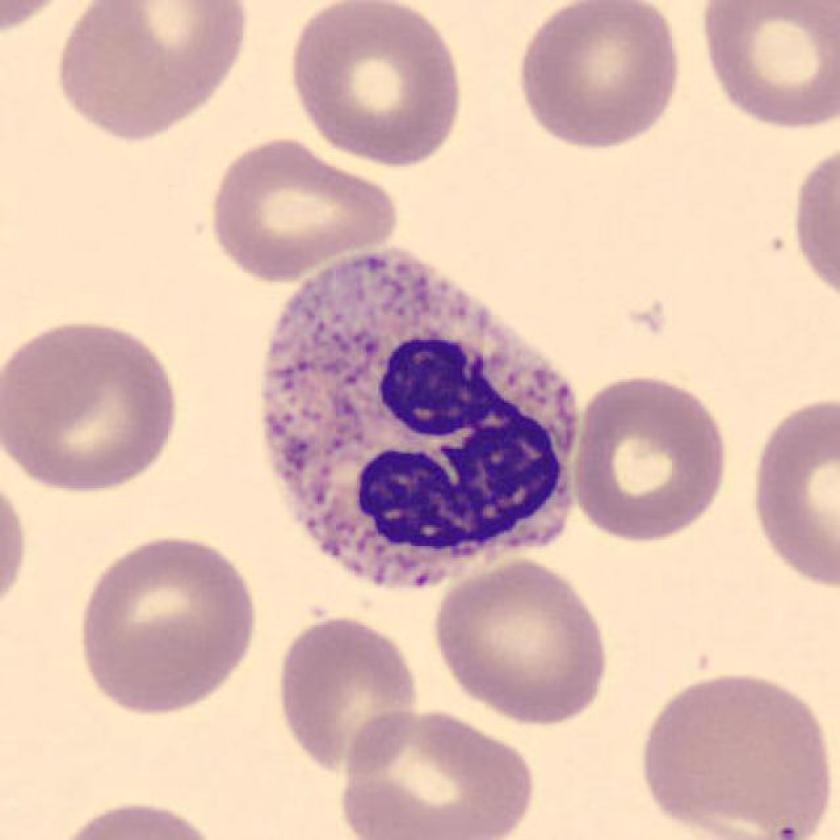neutrophil: (264, 246, 577, 589)
